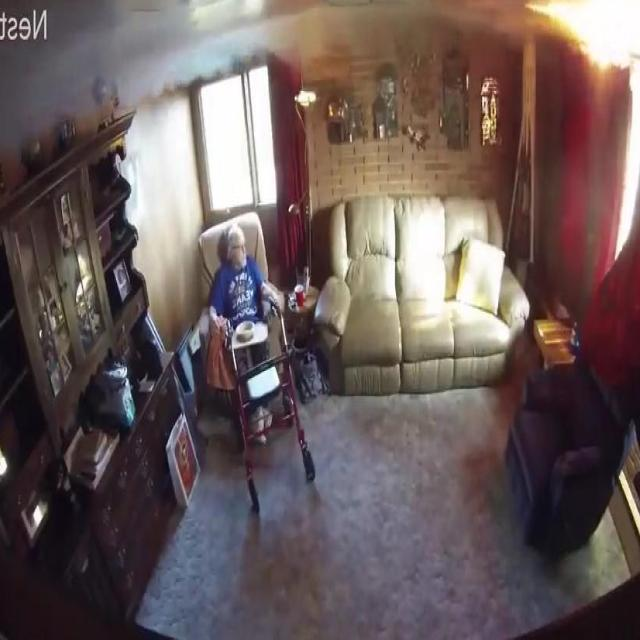fire: (0, 13, 233, 150), (268, 0, 515, 59)
smoke: (525, 0, 640, 81)
